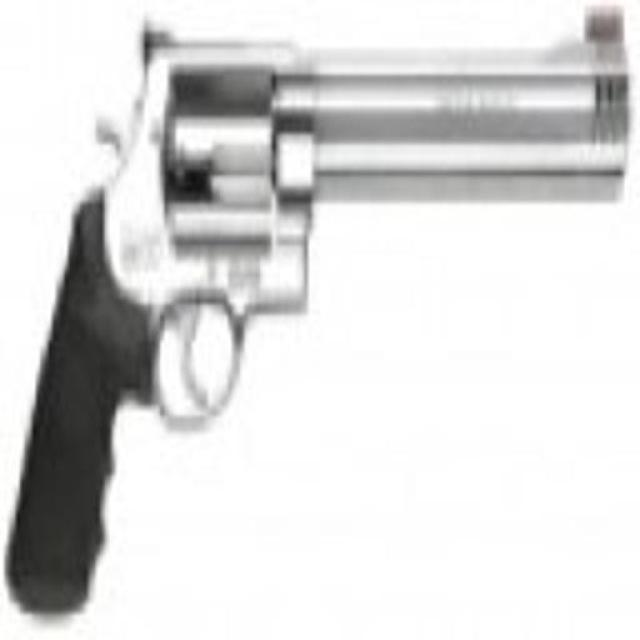pistol: (11, 5, 627, 607)
